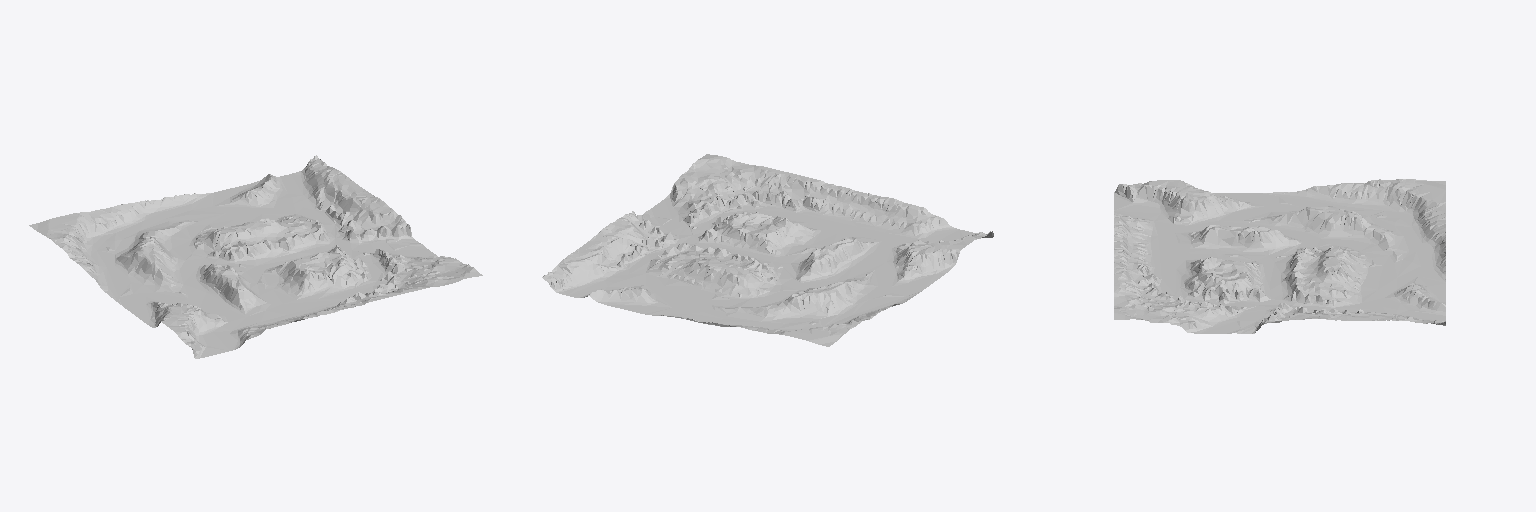
The model's file is desert.obj.
3 views of the same model, side by side, from view 1: azimuth 30°, elevation 25°; view 2: azimuth 150°, elevation 25°; view 3: azimuth 270°, elevation 25° (orthographic).
Visible parts, largest first — view 1: desert_test:PlaneFBXASC046003; view 2: desert_test:PlaneFBXASC046003; view 3: desert_test:PlaneFBXASC046003.
Part boxes in pixels (x1,y1,x2,y2): desert_test:PlaneFBXASC046003: (29,155,482,358); desert_test:PlaneFBXASC046003: (542,154,993,346); desert_test:PlaneFBXASC046003: (1114,179,1445,333).
Size of the model in its own units: 600 by 31 by 600.